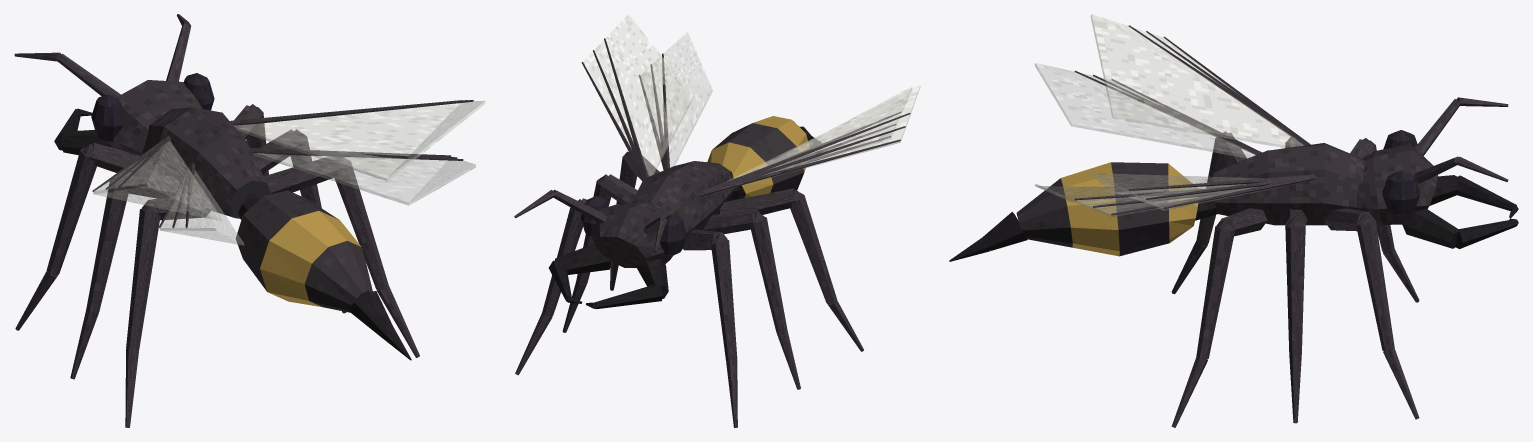
Rendered from mon_wasp_small_guard.glb.
The picture shows the model from 3 angles, left to right: view 1: azimuth 30°, elevation 25°; view 2: azimuth 150°, elevation 25°; view 3: azimuth 270°, elevation 25°; orthographic projection. The views are drawn at different scales.
Parts seen in each view (by area): view 1: closed_body, glazing; view 2: closed_body, glazing; view 3: closed_body, glazing.
Part boxes in pixels (x1,y1,x2,y2): closed_body: [14, 14, 473, 427]; glazing: [93, 100, 485, 245]; closed_body: [514, 38, 910, 427]; glazing: [583, 14, 920, 189]; closed_body: [949, 25, 1518, 427]; glazing: [1034, 14, 1307, 217].
Size of the model in its own units: 0.8681 by 0.6335 by 1.22.
2 materials, 2 textured.
